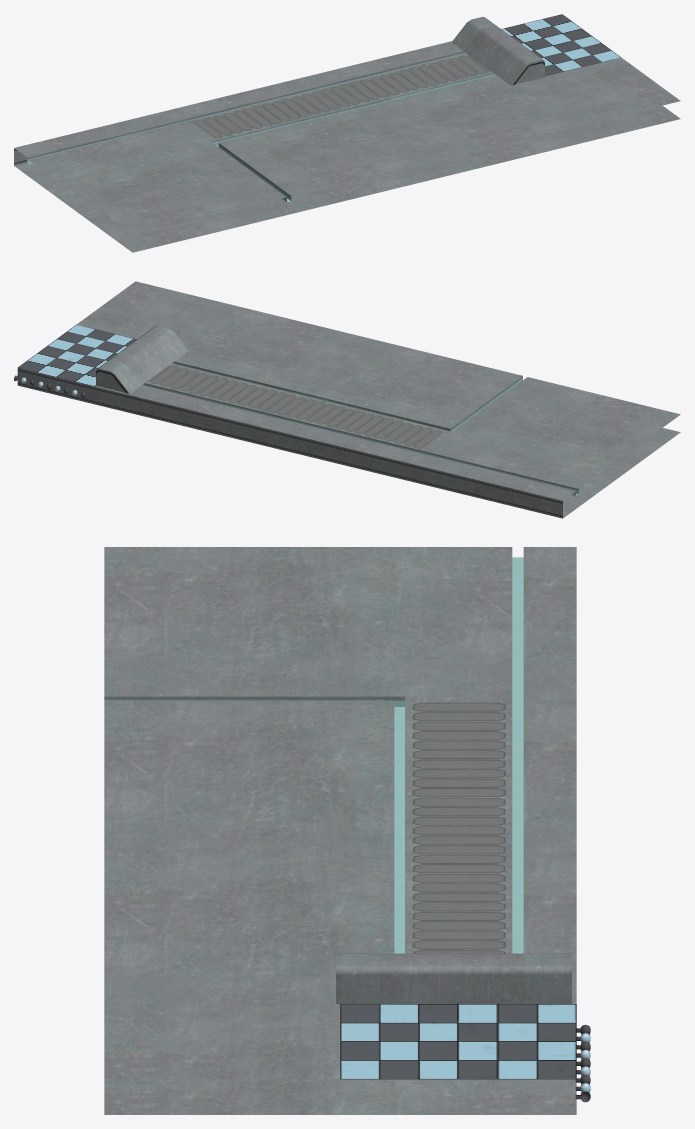
The model's file is Disco_BottomBoundary_Right.fbx.
3 views of the same model, one above another, from view 1: azimuth 30°, elevation 25°; view 2: azimuth 150°, elevation 25°; view 3: azimuth 270°, elevation 25° (orthographic). The views are drawn at different scales.
Parts seen in each view (by area): view 1: BottomBoundary_Right; view 2: BottomBoundary_Right; view 3: BottomBoundary_Right.
Part boxes in pixels (left/top/right/bottom): BottomBoundary_Right: left=14, top=14, right=680, bottom=252; BottomBoundary_Right: left=14, top=281, right=680, bottom=518; BottomBoundary_Right: left=104, top=547, right=590, bottom=1114.
Size of the model in its own units: 32 by 2 by 12.36.
